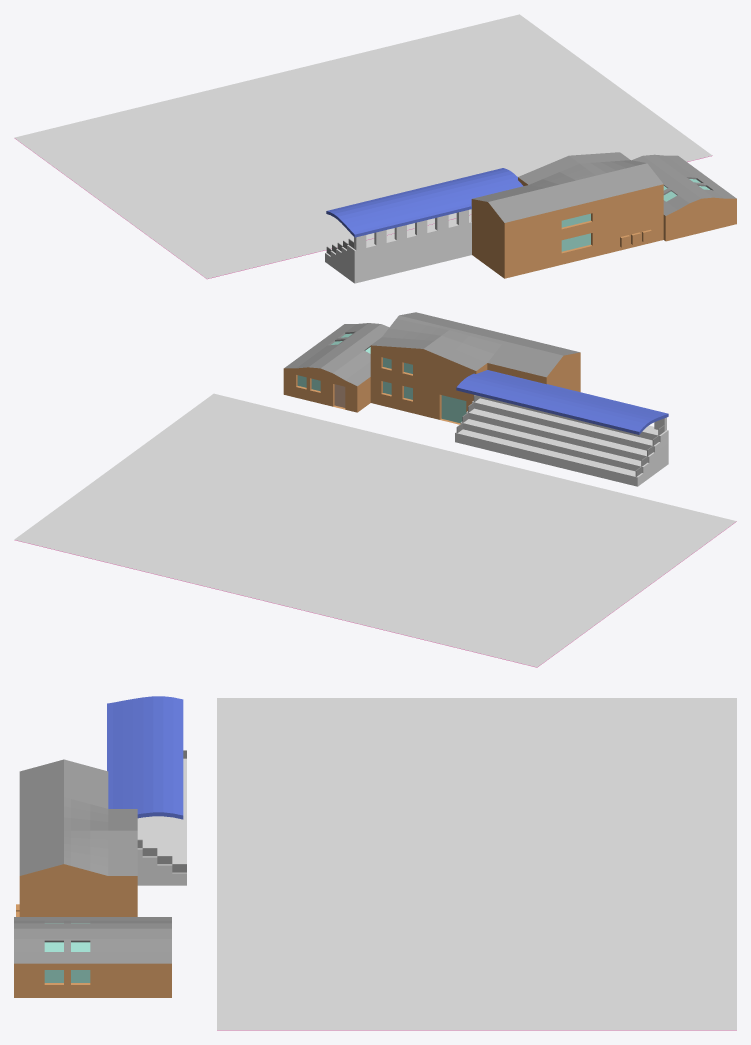
File: terrainFoot.fbx
The picture shows the model from 3 angles, top to bottom: view 1: azimuth 30°, elevation 25°; view 2: azimuth 150°, elevation 25°; view 3: azimuth 270°, elevation 25°; orthographic projection. The views are drawn at different scales.
Visible parts, largest first — view 1: Terrain; view 2: Terrain; view 3: Terrain.
Boxes of the visible parts, x1,y1,x2,y2 form: Terrain: [14, 14, 736, 283]; Terrain: [14, 312, 736, 667]; Terrain: [14, 696, 736, 1030].
Size of the model in its own units: 1771 by 216 by 1628.
